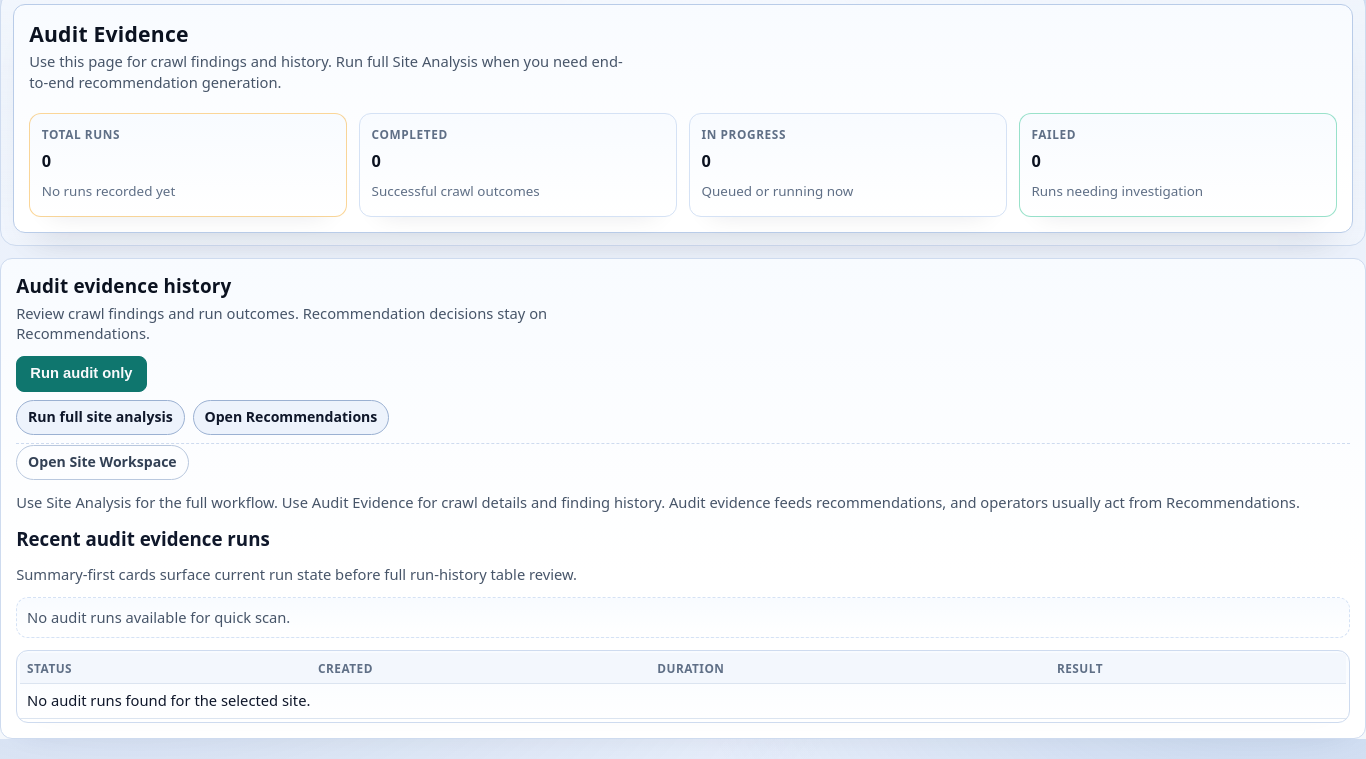
Test: audits page shared-shell framing › starts an audit run from the page action and surfaces success guidance
Click the button with test id "audits-run-audit-button" at (81, 374), box [16, 356, 147, 392]
(page scrolled)
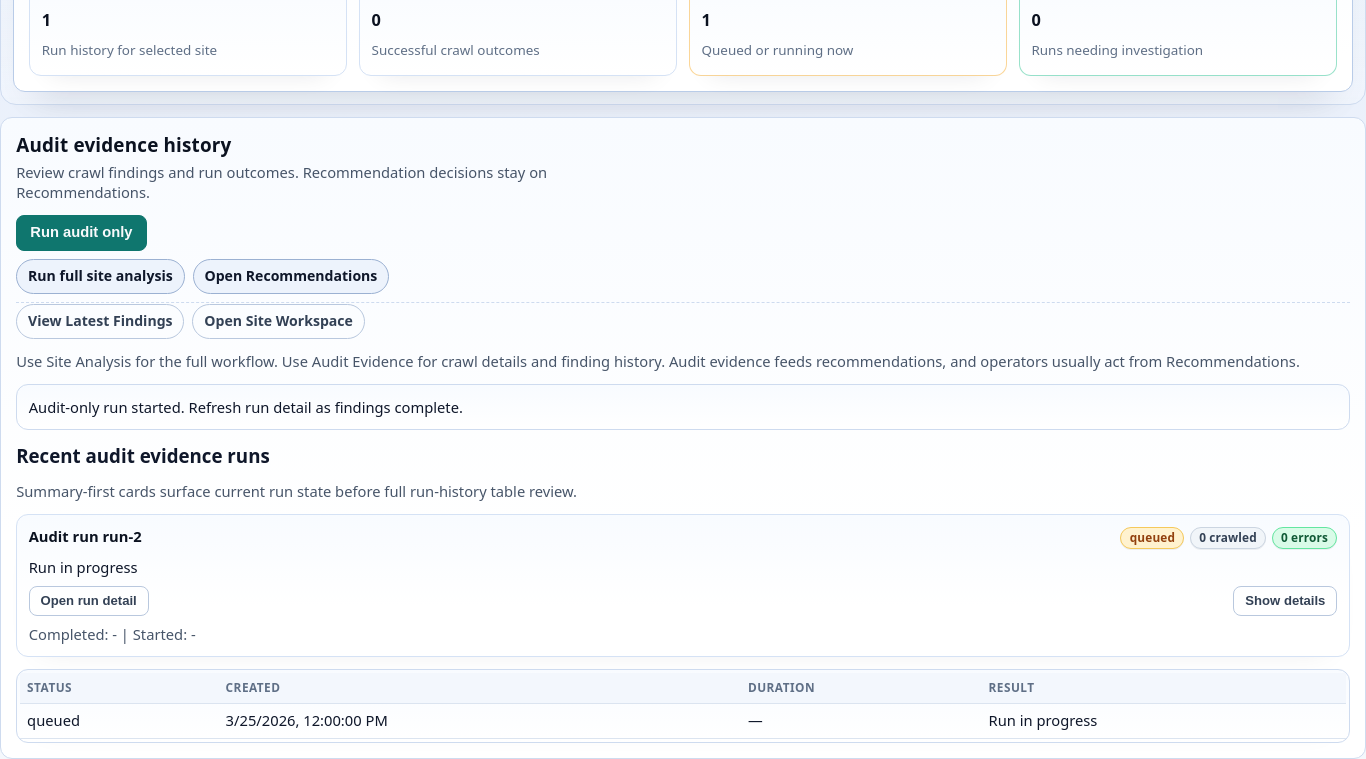
Result: the text with test id "audits-run-audit-success" reads "Audit-only run started. Refresh run detail as findings complete." at [29, 397, 463, 417]
Result: the element with test id "audit-quick-scan-item-run-2" is shown at [16, 514, 1350, 658]
